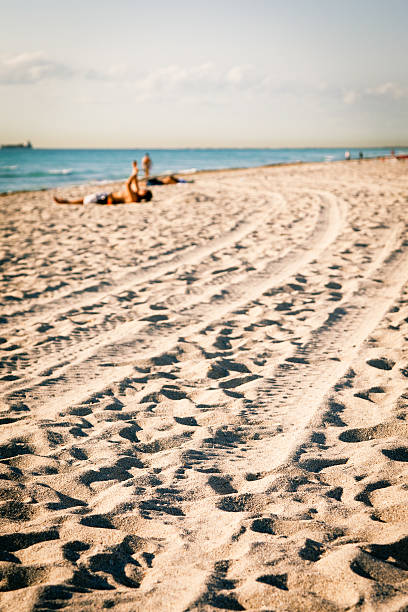vehicle_track: (0, 189, 406, 610), (149, 246, 407, 604), (9, 192, 343, 409), (20, 229, 274, 375), (255, 248, 407, 469), (6, 202, 263, 323), (7, 211, 263, 325)
